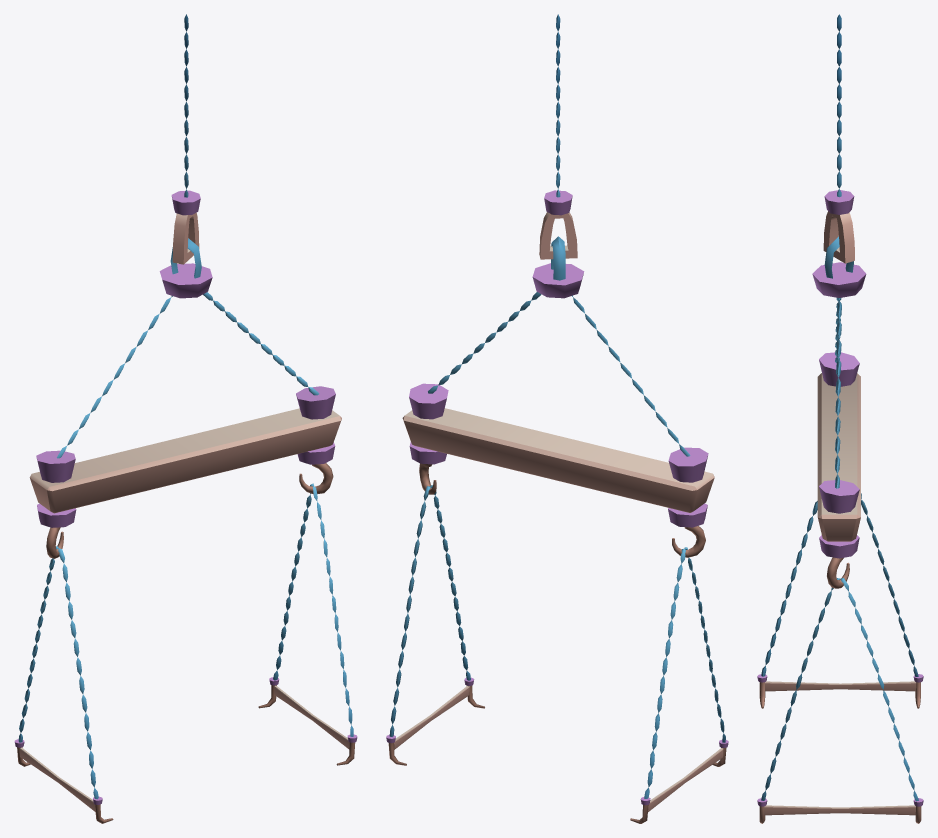
File: prop-crane_nomville.glb
The picture shows the model from 3 angles, left to right: view 1: azimuth 30°, elevation 25°; view 2: azimuth 150°, elevation 25°; view 3: azimuth 270°, elevation 25°; orthographic projection.
Parts seen in each view (by area): view 1: prop-crane_nomville; view 2: prop-crane_nomville; view 3: prop-crane_nomville.
Part boxes in pixels (<box>): prop-crane_nomville: <box>14,14,357,823</box>; prop-crane_nomville: <box>386,14,728,823</box>; prop-crane_nomville: <box>757,14,923,823</box>.
Size of the model in its own units: 10.55 by 25.62 by 5.15.
